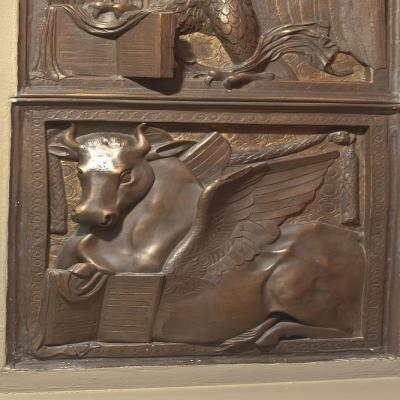sculpture: (6, 0, 400, 372)
